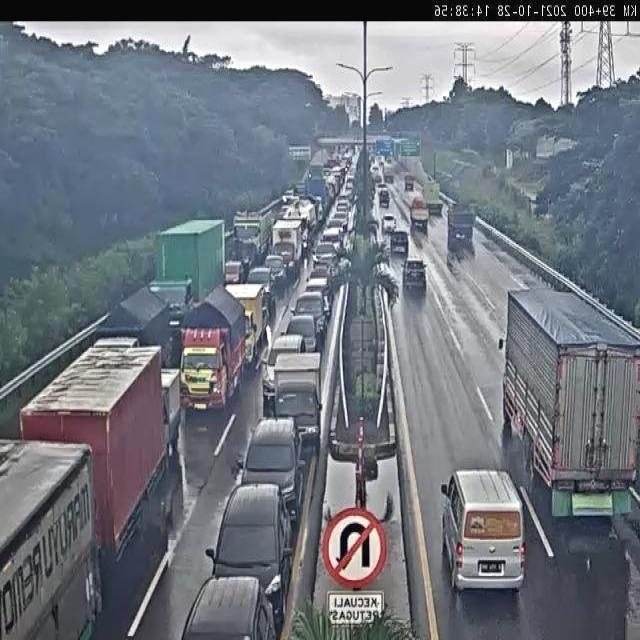Car: (204, 479, 292, 620), (234, 414, 306, 520), (181, 573, 276, 640), (260, 331, 306, 399), (284, 313, 320, 361), (294, 290, 326, 335), (246, 265, 275, 302), (305, 276, 331, 316), (400, 257, 428, 292), (264, 253, 288, 288), (312, 239, 338, 269), (308, 260, 334, 286), (388, 230, 411, 256), (320, 226, 341, 253), (224, 257, 245, 283), (332, 209, 348, 231), (382, 214, 397, 232), (280, 189, 294, 207), (379, 190, 389, 208), (378, 183, 389, 194)
Truck: (17, 341, 168, 565), (503, 287, 637, 518), (0, 434, 99, 638), (175, 283, 244, 412), (151, 215, 227, 322), (90, 284, 174, 371), (270, 350, 326, 452), (222, 279, 268, 369), (230, 206, 274, 259), (282, 197, 318, 251), (271, 216, 303, 275), (162, 365, 183, 451), (446, 203, 475, 248), (304, 175, 327, 224), (422, 180, 445, 213), (409, 196, 428, 232), (384, 165, 394, 182), (404, 176, 414, 192)
Van: (439, 467, 527, 595)
